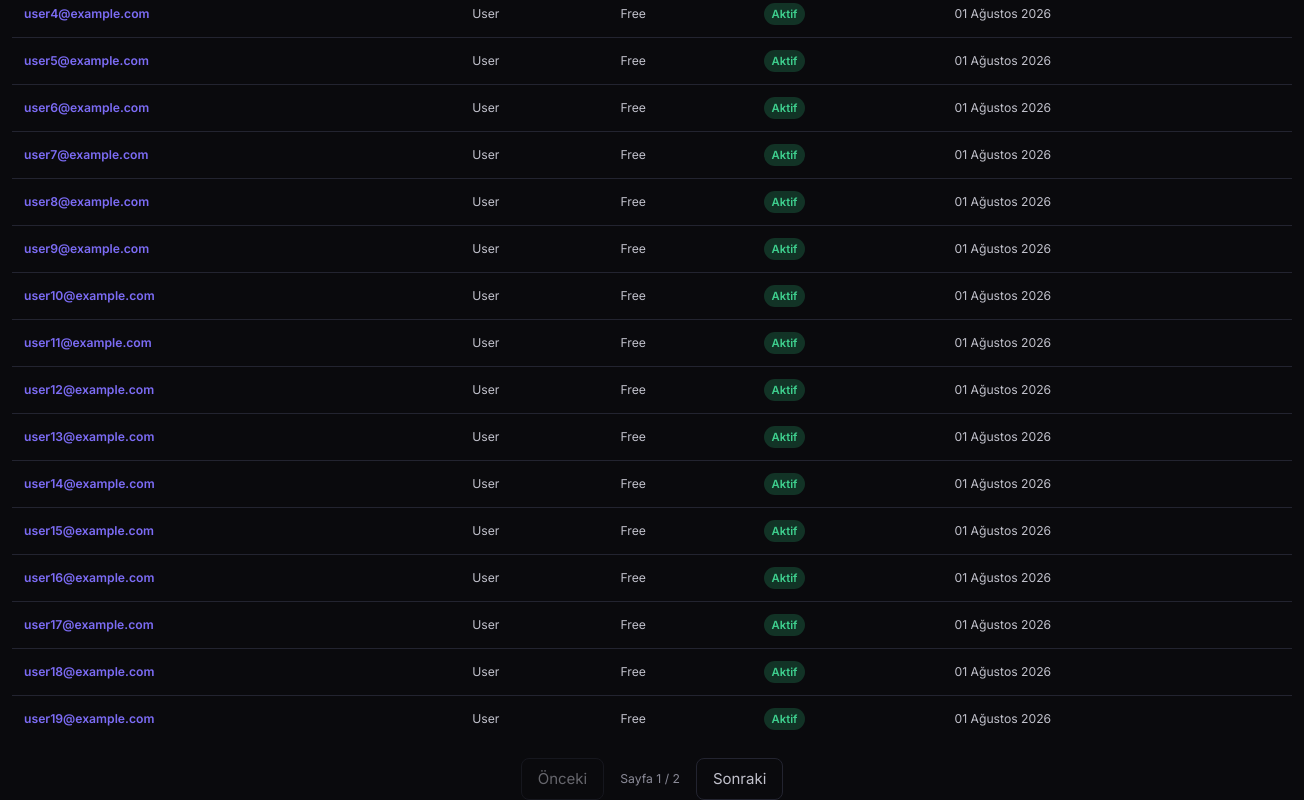
Test case: AdminUsersPage › shows pagination controls and requests the next page on click
(page scrolled)
Click the button "Sonraki" at (740, 779), box [696,758,783,799]
(page scrolled)
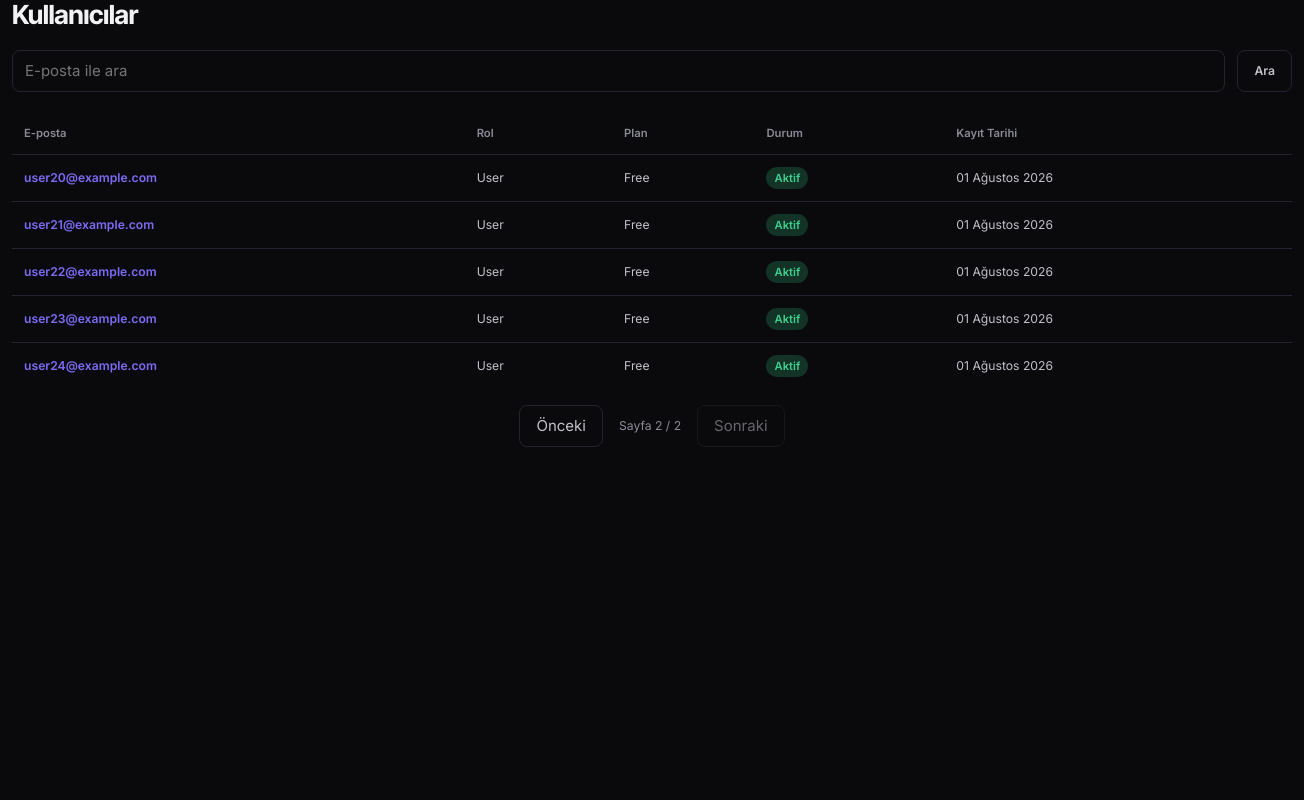
Expected: the link "user20@example.com" is shown, [24,170,157,185]
